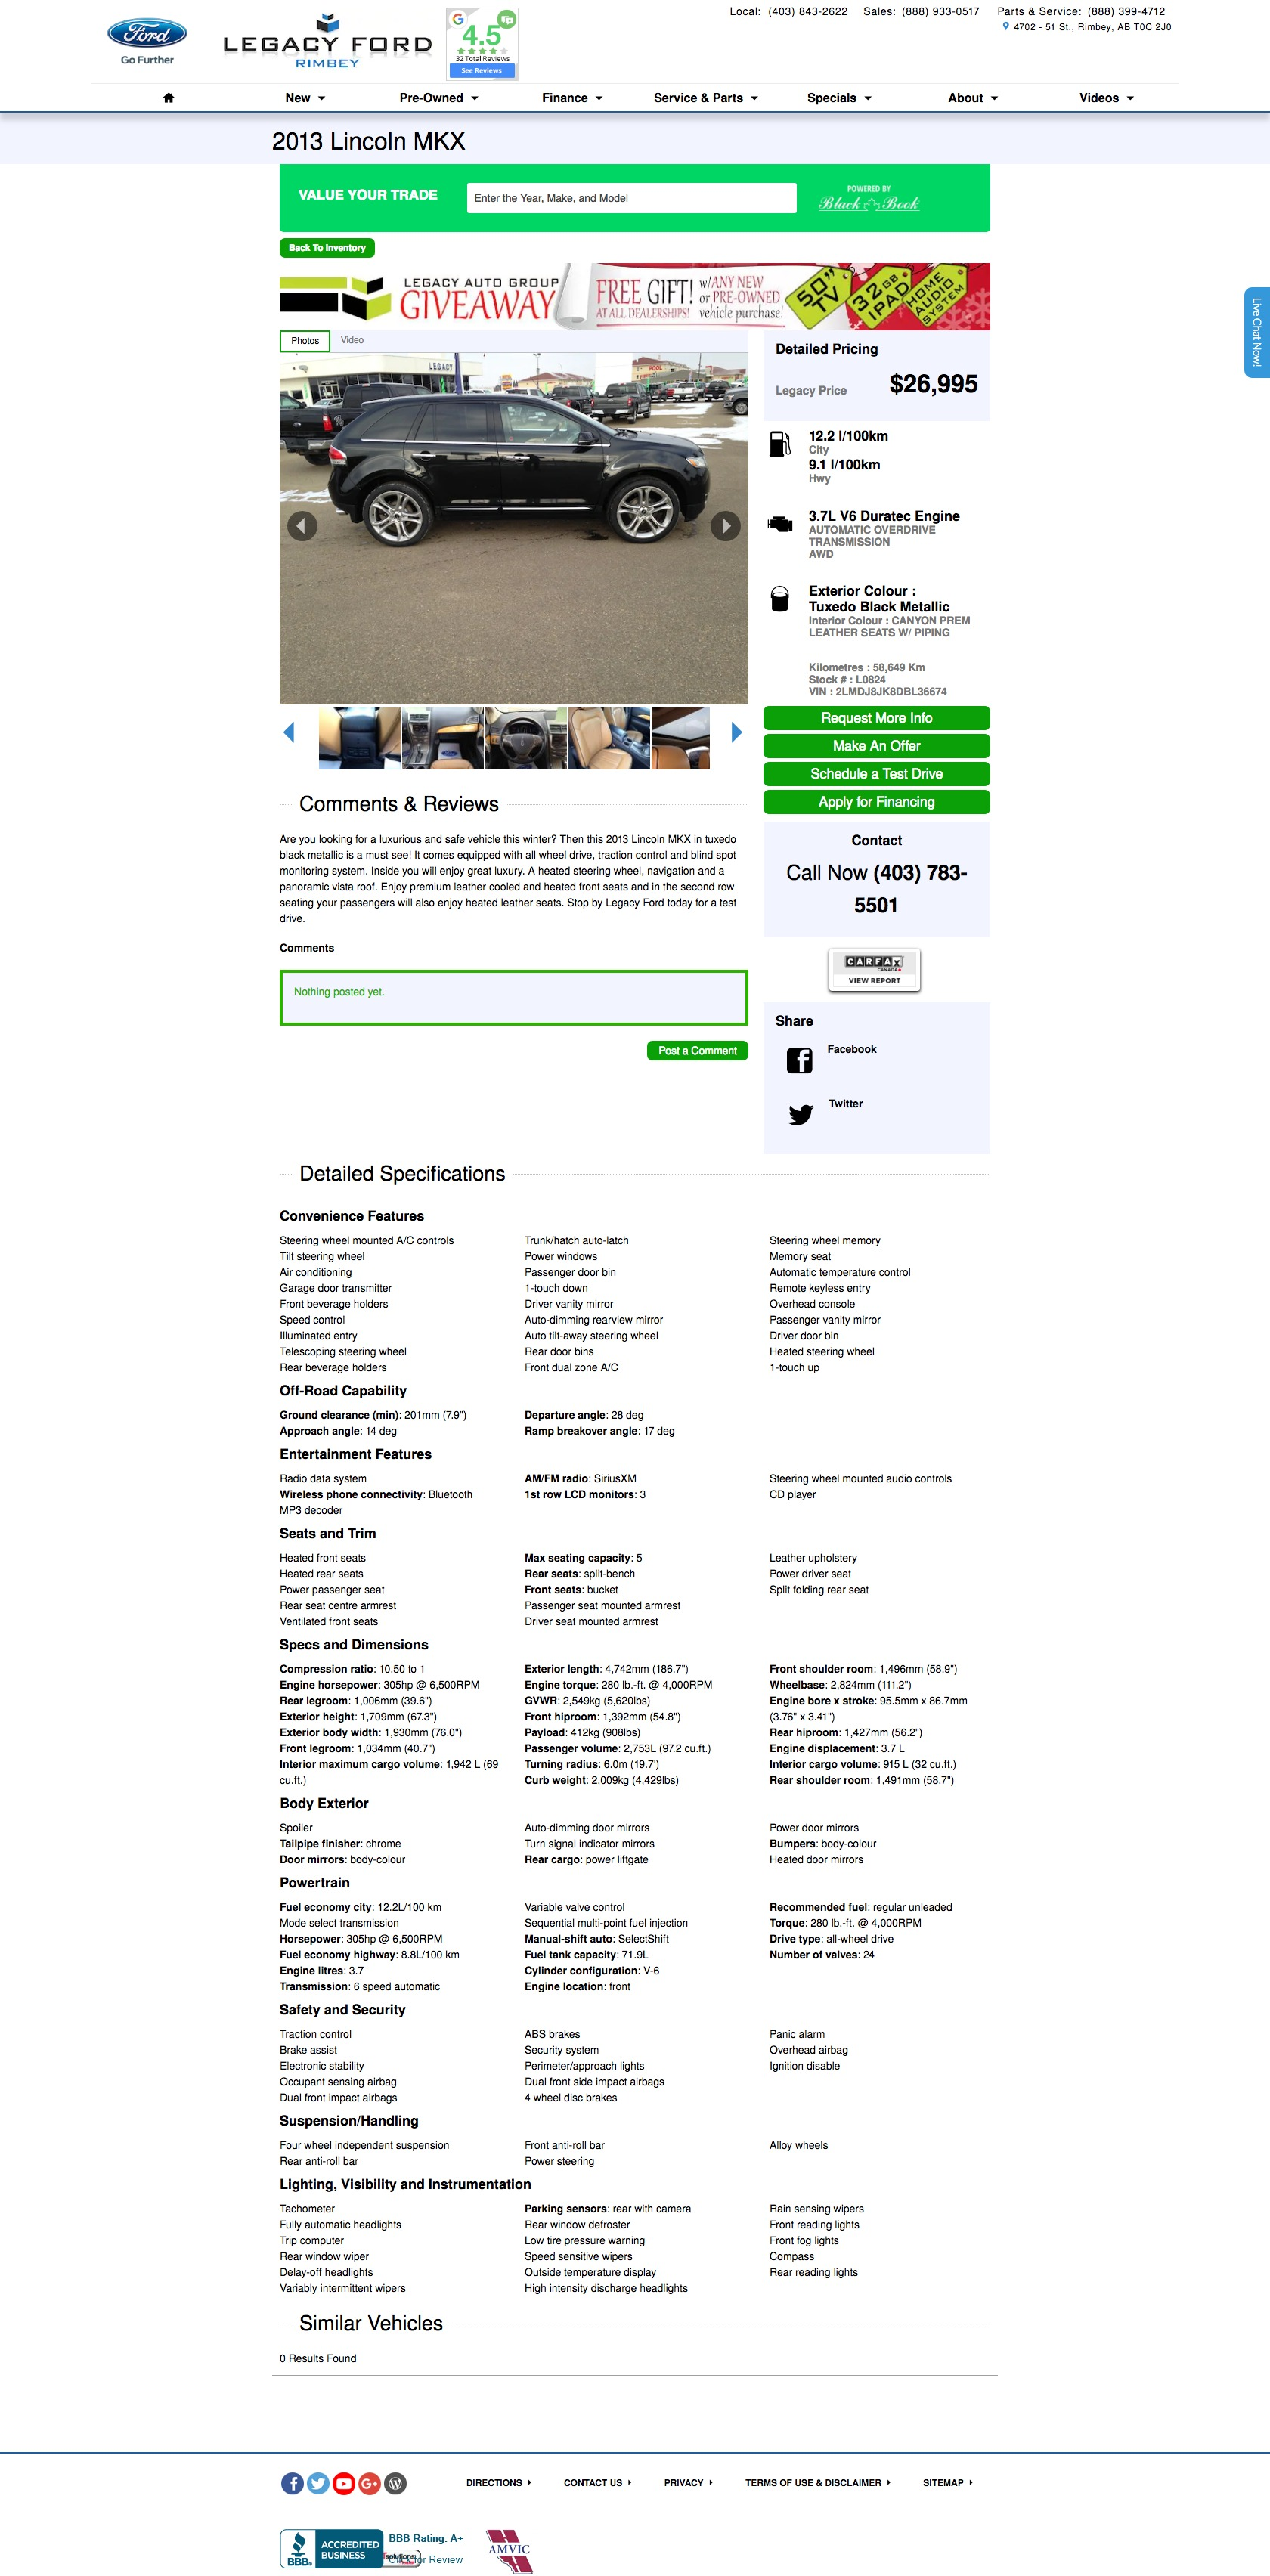car: (729, 721, 744, 744)
